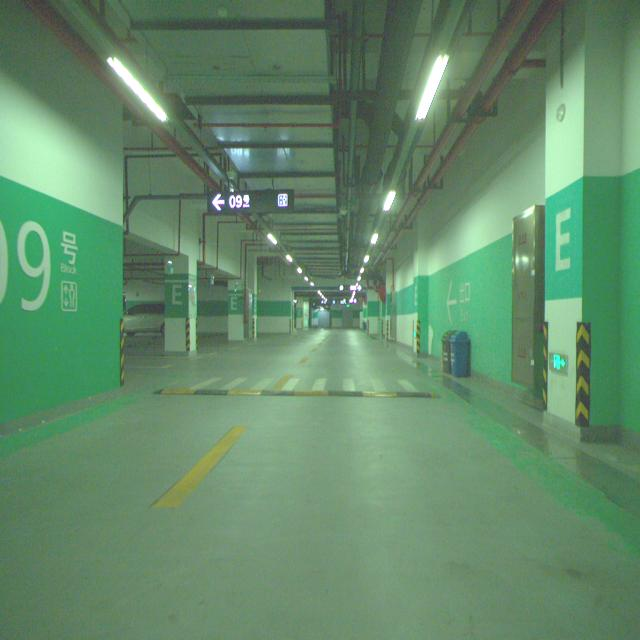pillar: (165, 255, 196, 355)
wall: (543, 52, 624, 427), (412, 236, 430, 353)
